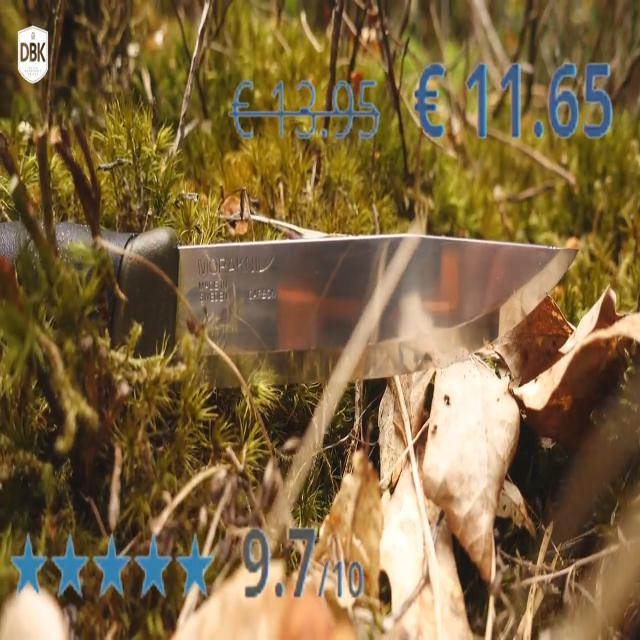knife: (1, 236, 583, 397)
